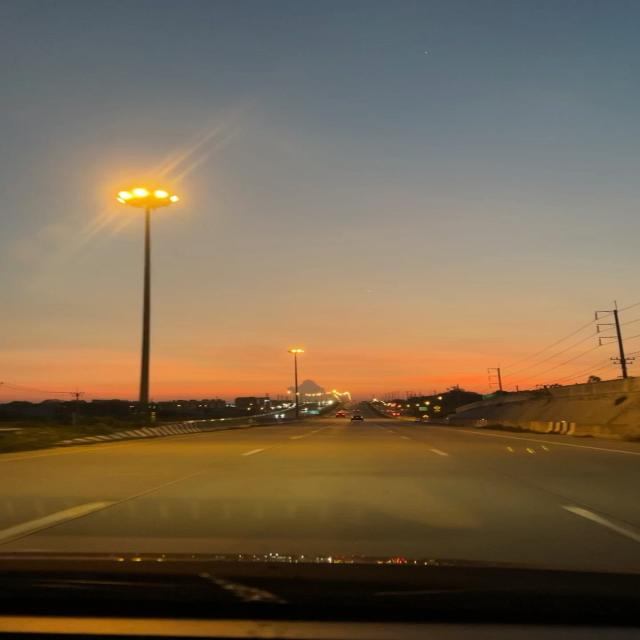Poth-hole: (105, 438, 508, 505)
